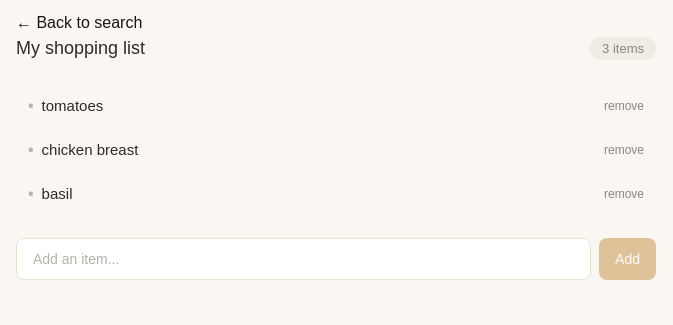
ShoppingListPage › shows duplicate message when item already exists
The width and height of the screenshot is (673, 325).
Type "tomatoes" into the field with placeholder "Add an item..." at (304, 259), box top-left (16, 238), bottom-right (591, 280)
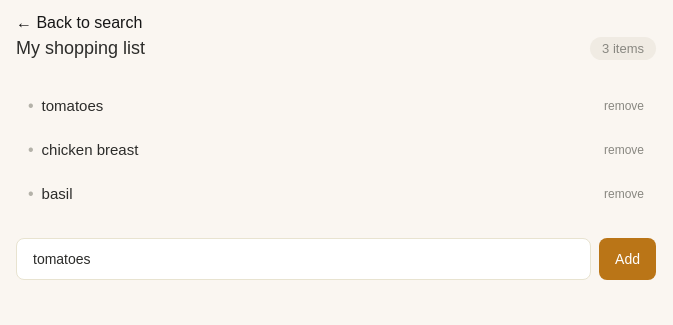
Click the button "Add" at (628, 259), box top-left (599, 238), bottom-right (656, 280)
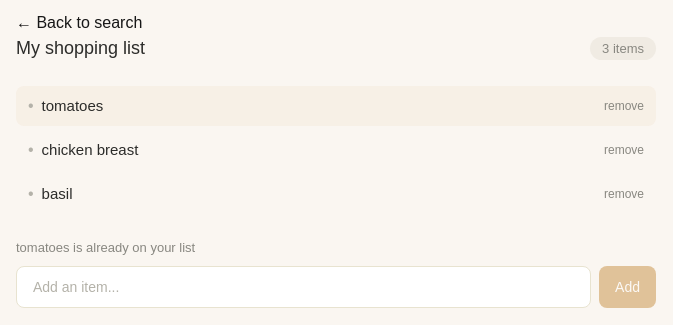
Expected: the text "tomatoes is already on your list" is shown, top-left (16, 240), bottom-right (195, 255)
